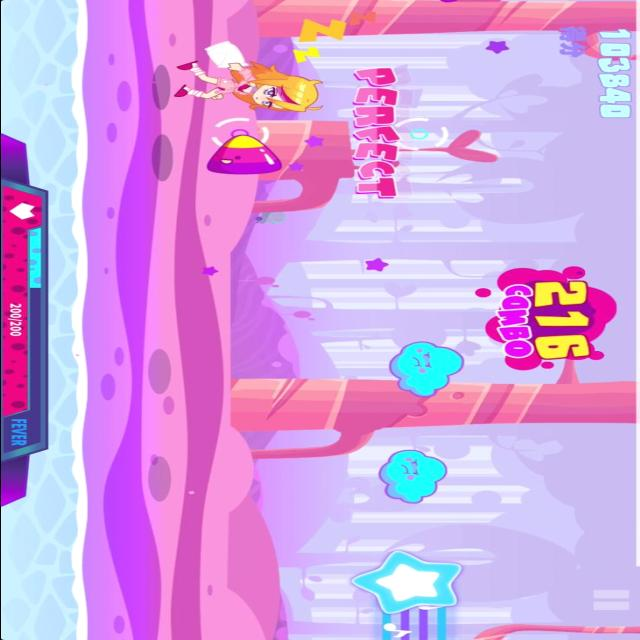hold: (348, 550, 472, 640)
jian: (201, 134, 286, 178)
yun: (386, 340, 471, 397), (376, 448, 448, 506)
